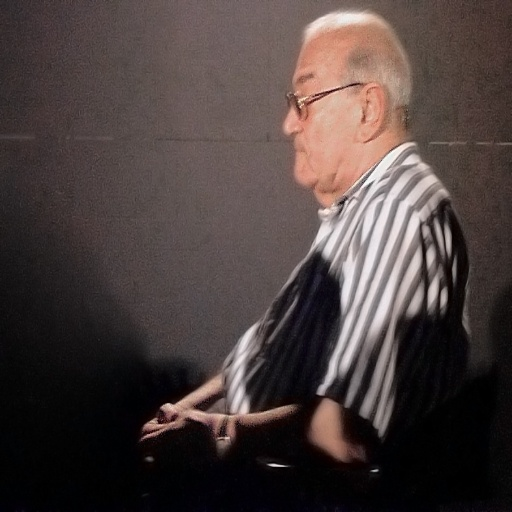hand: (137, 380, 300, 465), (142, 402, 186, 429)
